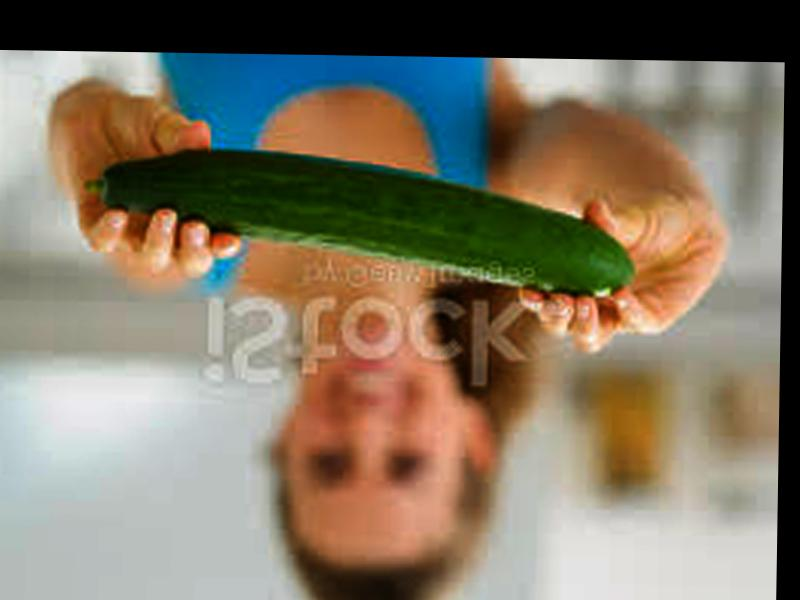Cucumber: (85, 147, 637, 290)
